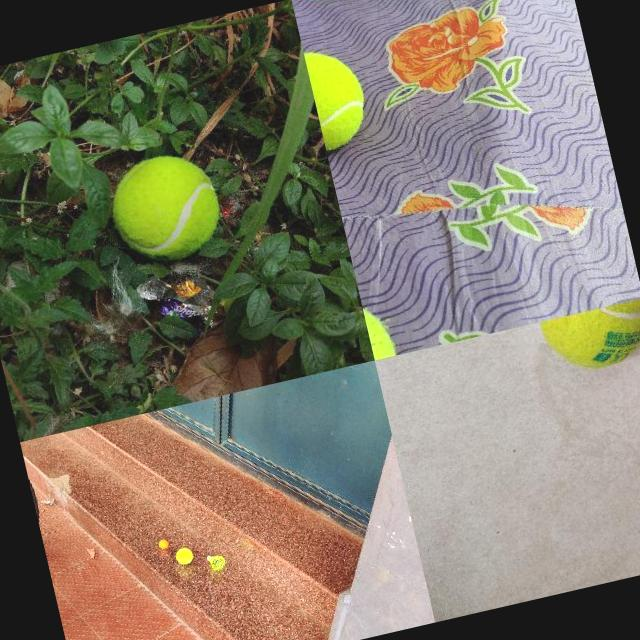tennis-ball: (102, 146, 227, 270), (539, 298, 640, 380), (303, 40, 376, 152), (174, 545, 194, 564)
